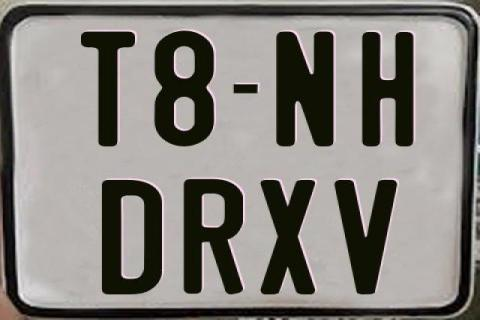0: (153, 29, 214, 149)
D: (101, 180, 164, 295)
H: (361, 32, 413, 146)
N: (274, 31, 335, 149)
R: (183, 179, 245, 296)
T: (80, 31, 139, 148)
V: (331, 179, 398, 296)
X: (257, 179, 316, 297)
